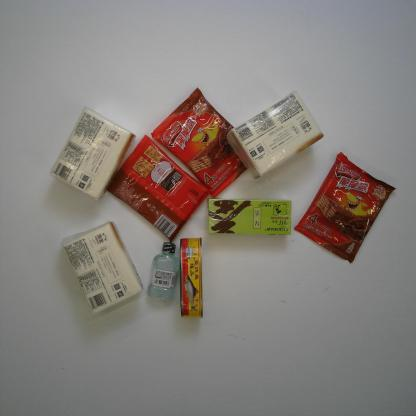Canned Food: (179, 236, 203, 318)
Dessert: (149, 86, 259, 198), (293, 152, 396, 266), (106, 134, 211, 242)
Instant Drink: (207, 197, 292, 237)
Personal Hygiene: (147, 242, 179, 301)
Tissue: (226, 90, 325, 181), (49, 106, 136, 201), (60, 221, 144, 316)
